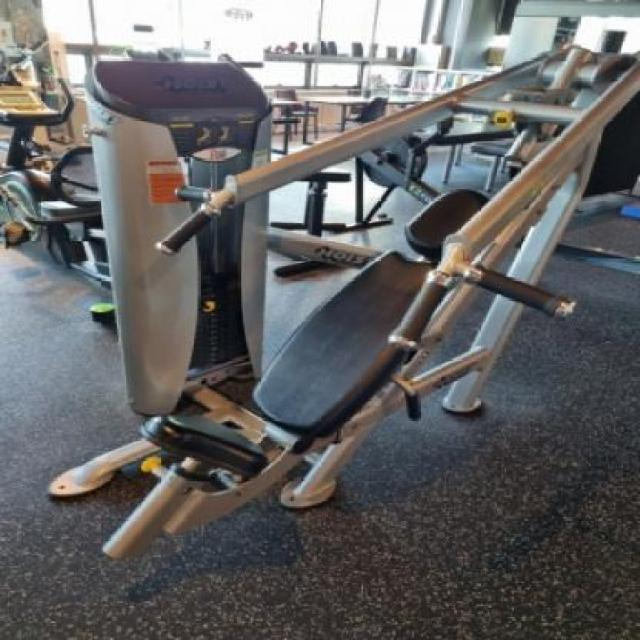Chest Press machine: (41, 17, 640, 586)
